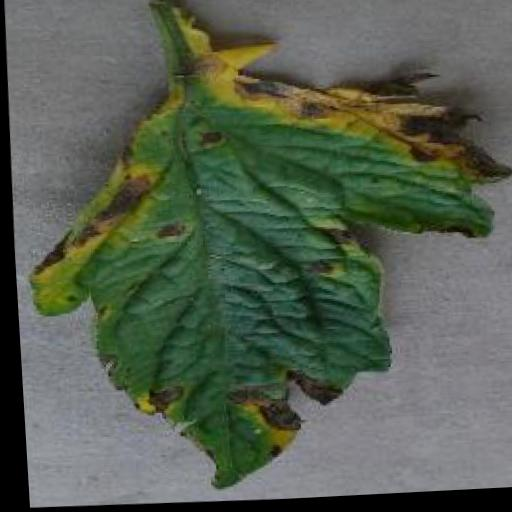Early Blight: (10, 0, 512, 505)
